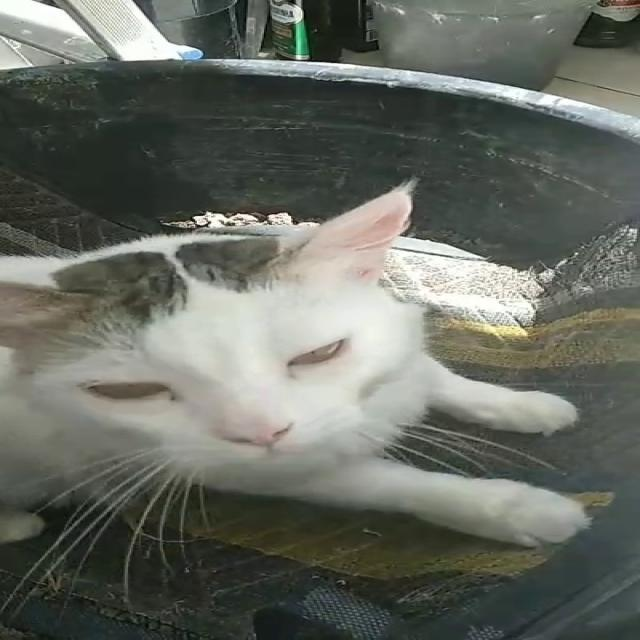Simba: (0, 178, 592, 552)
